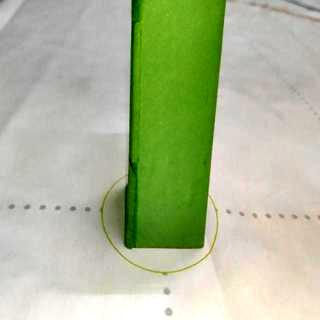greenbox: (126, 1, 225, 248)
